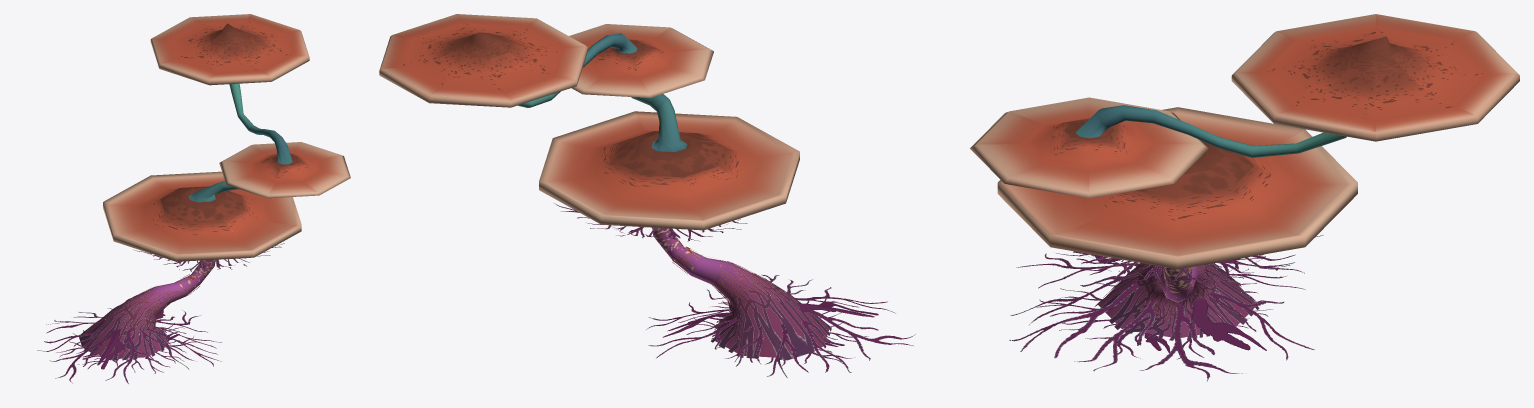
Rendered from LargeMushroomPrime 1.fbx.
3 views of the same model, side by side, from view 1: azimuth 30°, elevation 25°; view 2: azimuth 150°, elevation 25°; view 3: azimuth 270°, elevation 25° (orthographic). The views are drawn at different scales.
Parts seen in each view (by area): view 1: Plane.012; view 2: Plane.012; view 3: Plane.012.
Part boxes in pixels (x1,y1,x2,y2): Plane.012: (37, 14, 350, 383); Plane.012: (379, 14, 915, 377); Plane.012: (970, 14, 1519, 381).
Size of the model in its own units: 1442 by 956 by 1194.
